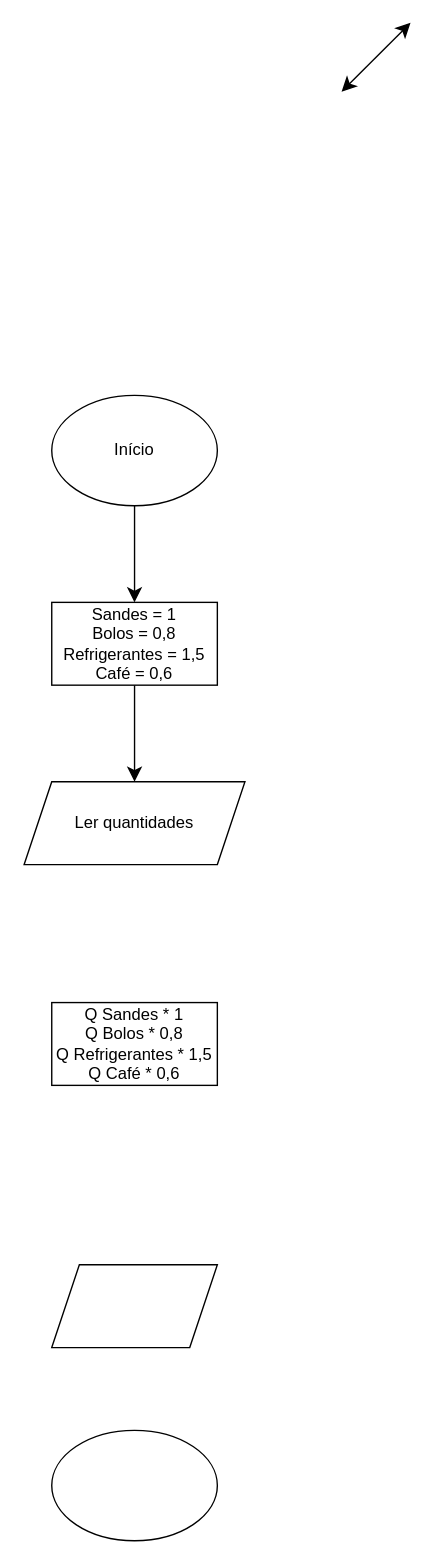
Some shapes in this 435 by 1566 pixel diagram are drawn without their labels. Each missing label, with the box of its shape:
Escrever lucro: (50, 1263, 217, 1348)
Fim: (50, 1429, 217, 1541)
